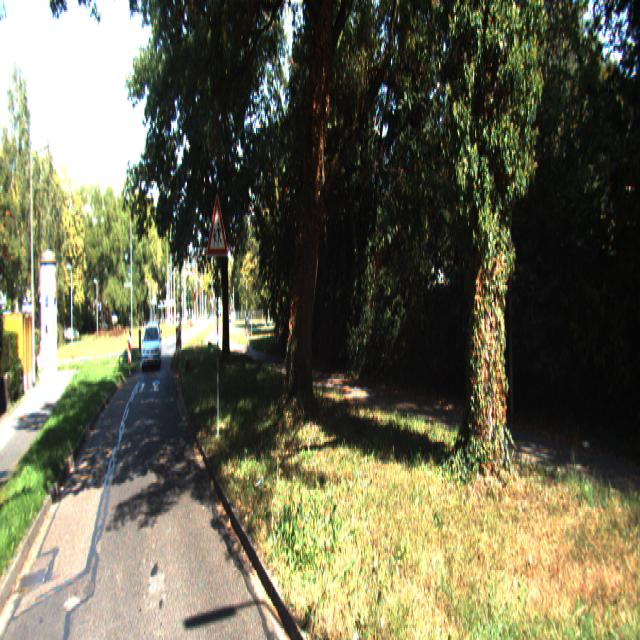Car: (142, 323, 160, 373)
